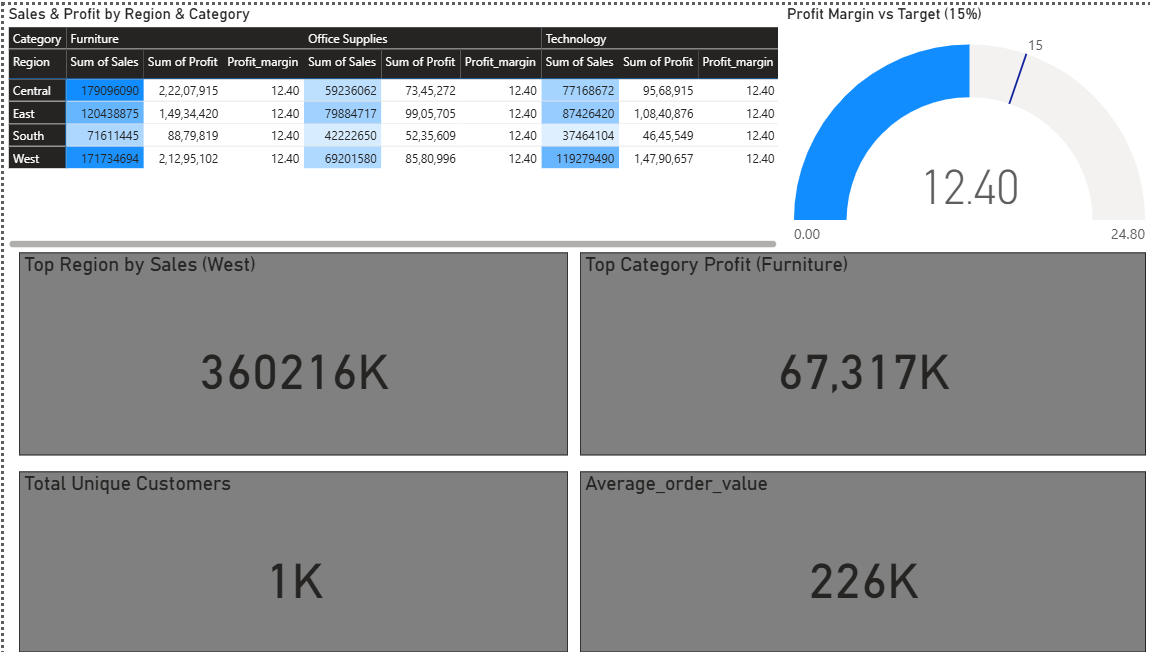

What the dashboard file says about the page in this screenshot:
{"tool":"powerbi","page":{"name":"Page 3","canvas":[1280,720],"ordinal":2},"visuals":[{"type":"pivotTable","title":"Sales & Profit by Region & Category","fields":{"Rows":["Data.Region"],"Columns":["Data.Category"],"Values":["Sum(Data.Sales)","Sum(Data.Profit)","Data.Profit_margin"]},"box":[0,0,865,275],"z":0},{"type":"gauge","title":"Profit Margin vs Target (15%)","fields":{"Y":["Data.Profit_margin"],"TargetValue":["Data.Target Profit Margin"]},"box":[865,0,415,275],"z":1},{"type":"card","title":"Top Region by Sales (West)","fields":{"Values":["Data.Total Sales"]},"box":[16.7,275,610,225],"z":2},{"type":"card","title":"Top Category Profit (Furniture)","fields":{"Values":["Sum(Data.Profit)"]},"box":[640,275,628.3,225],"z":3},{"type":"card","title":"Total Unique Customers","fields":{"Values":["Count(Data.Customer ID)"]},"box":[16.7,518.3,610,201.7],"z":4},{"type":"card","title":"Average_order_value","fields":{"Values":["Data.Average_order_value"]},"box":[640,518.3,628.3,201.7],"z":5}]}

Visuals, with their boxes in screenshot pixels (x1, y1, x2, y2), scaled from the page's 1280x720 canvas onto the 1153x652 screenshot:
"Sales & Profit by Region & Category" pivotTable: pyautogui.locateOnScreen(0, 0, 779, 249)
"Profit Margin vs Target (15%)" gauge: pyautogui.locateOnScreen(779, 0, 1152, 249)
"Top Region by Sales (West)" card: pyautogui.locateOnScreen(15, 249, 565, 453)
"Top Category Profit (Furniture)" card: pyautogui.locateOnScreen(576, 249, 1142, 453)
"Total Unique Customers" card: pyautogui.locateOnScreen(15, 469, 565, 651)
"Average_order_value" card: pyautogui.locateOnScreen(576, 469, 1142, 651)
